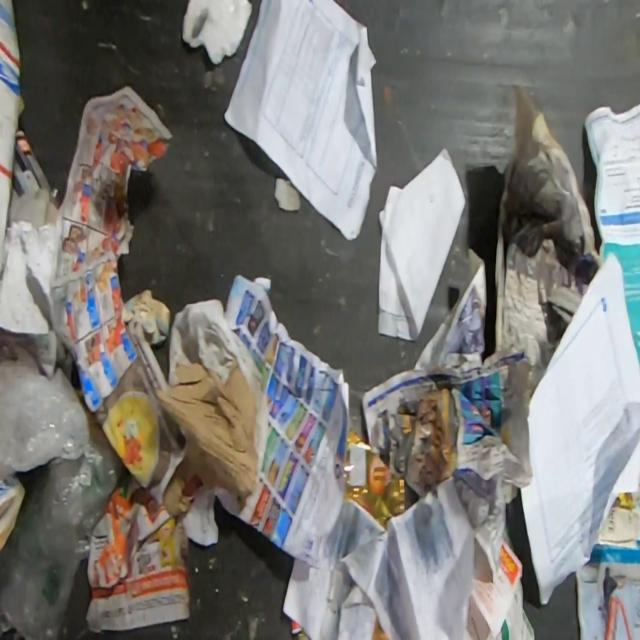cardboard: (156, 358, 259, 512), (0, 464, 24, 554)
soft_plastic: (0, 419, 124, 640), (0, 361, 88, 473), (343, 432, 404, 530), (372, 615, 389, 639), (292, 617, 307, 640)
